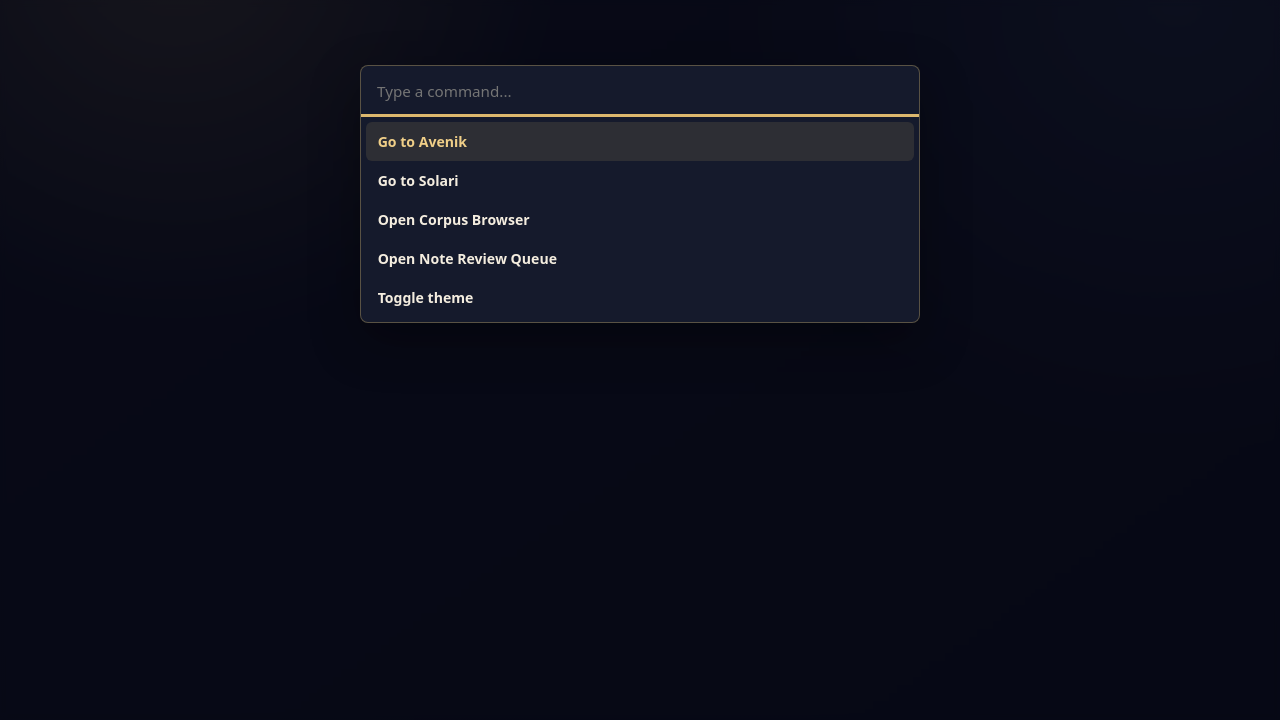
Test: CommandPalette › filters commands as the user types
This screenshot has width=1280, height=720.
In the dropdown named "Search commands": (640, 91) [361,66,919,117], type "corpus"
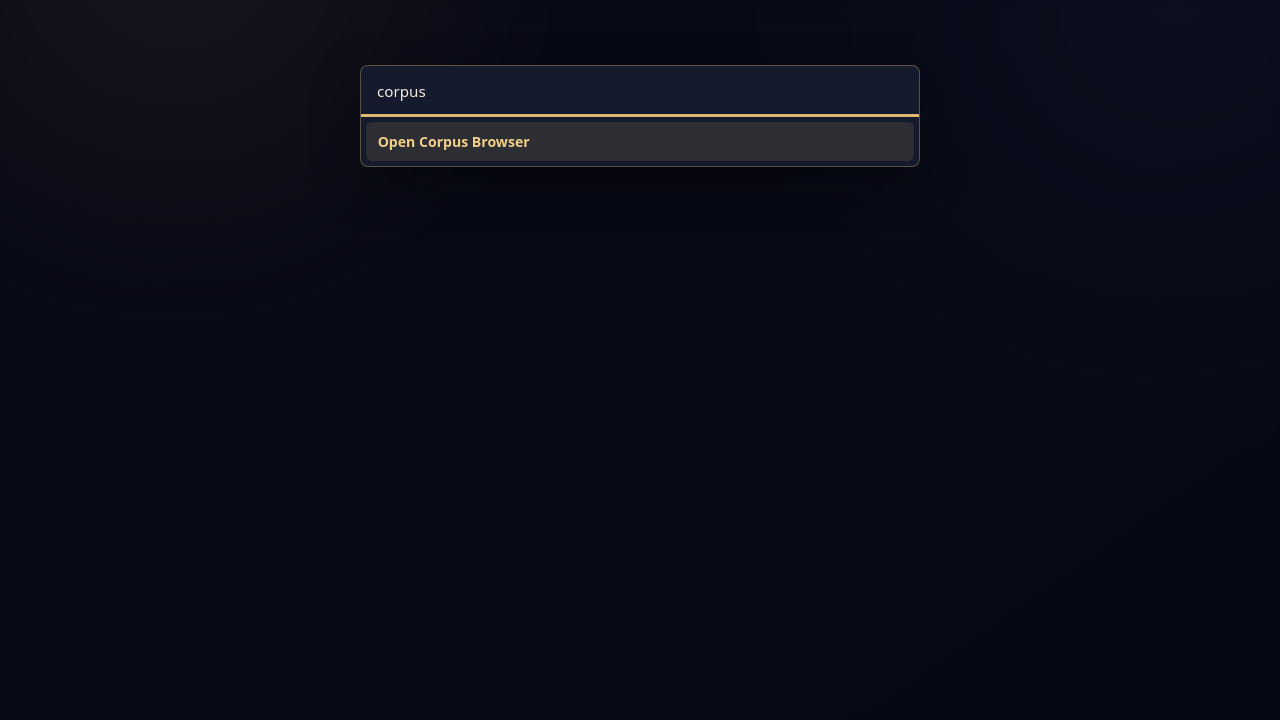
Check: the option "Open Corpus Browser" is shown, box [366,122,914,161]
Check: the option "Go to Avenik" is gone
Check: the option "Toggle theme" is gone
